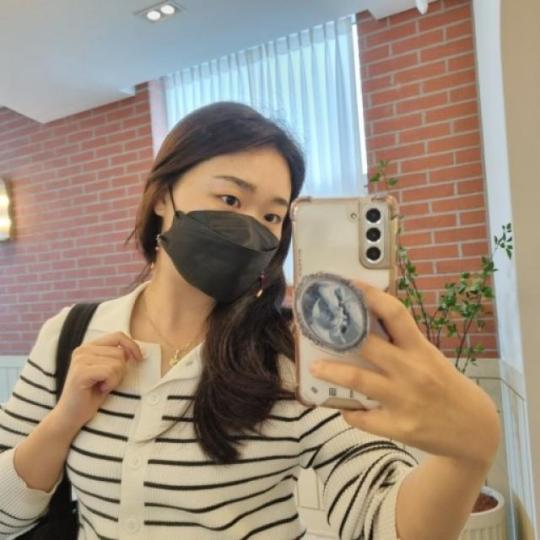phone: (284, 193, 404, 413)
